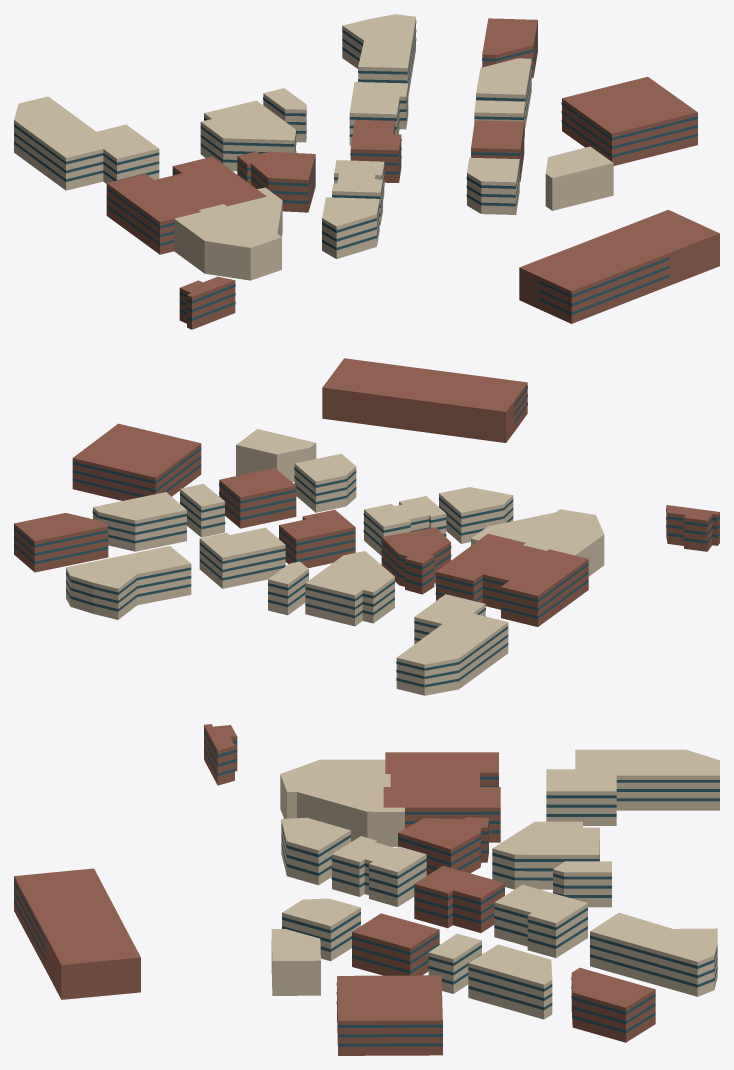
The model's file is city_6_2.glb.
3 views of the same model, one above another, from view 1: azimuth 30°, elevation 25°; view 2: azimuth 150°, elevation 25°; view 3: azimuth 270°, elevation 25° (orthographic). The views are drawn at different scales.
Parts seen in each view (by area): view 1: city_6_2; view 2: city_6_2; view 3: city_6_2.
Boxes of the visible parts, <box> form: city_6_2: <box>14,14,719,329</box>; city_6_2: <box>14,358,719,695</box>; city_6_2: <box>14,724,719,1055</box>.
Size of the model in its own units: 274 by 15 by 275.
